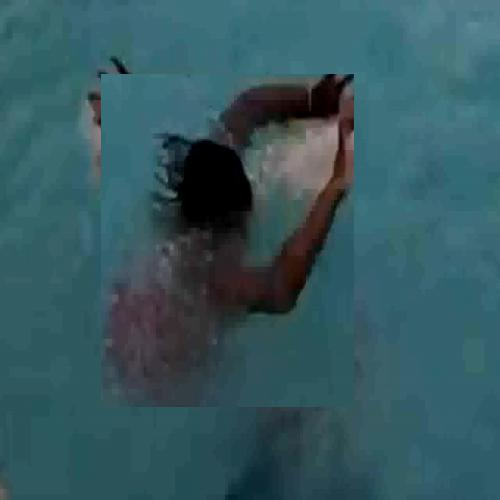drowning: (101, 74, 355, 408)
